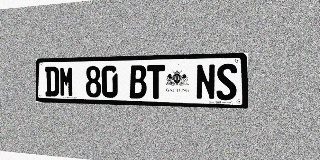0: (101, 65, 117, 98)
8: (86, 66, 101, 98)
B: (129, 65, 146, 99)
D: (45, 66, 59, 97)
M: (59, 66, 74, 97)
N: (196, 64, 215, 100)
S: (216, 63, 237, 100)
T: (147, 65, 165, 99)
